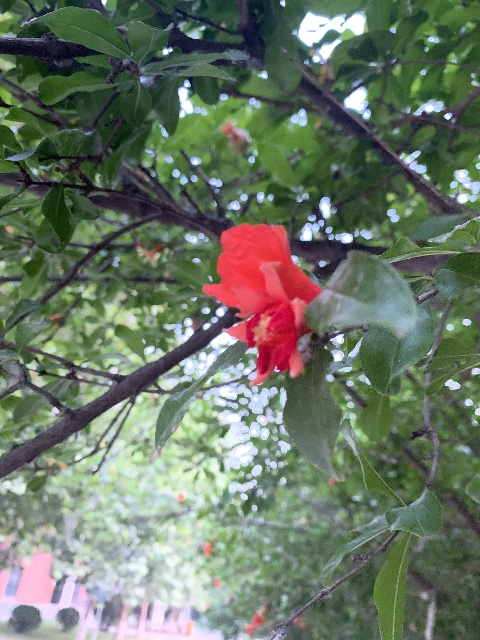early-fruit: (140, 243, 164, 269)
flower: (222, 263, 314, 386), (201, 222, 322, 314)
mid-growth: (219, 121, 248, 156)
